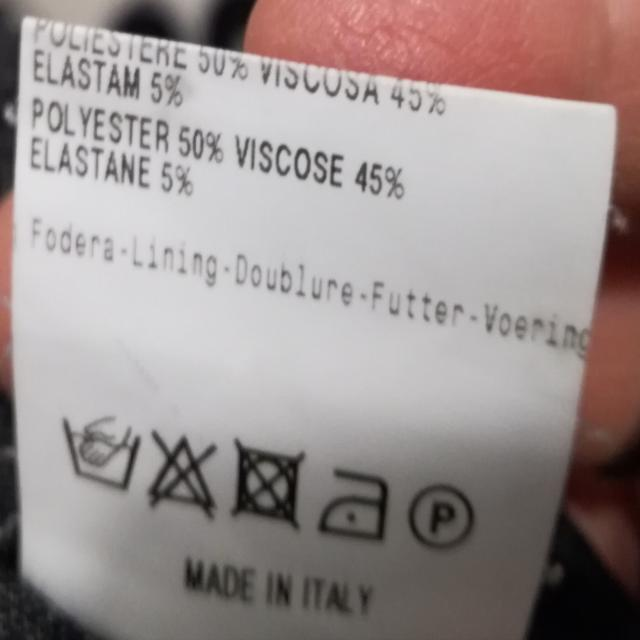DN_bleach: (146, 427, 220, 513)
DN_tumble_dry: (231, 440, 309, 532)
dry_clean_any_solvent_except_trichloroethylene: (403, 478, 482, 554)
hand_wash: (59, 413, 144, 490)
iron_low: (314, 461, 396, 544)
